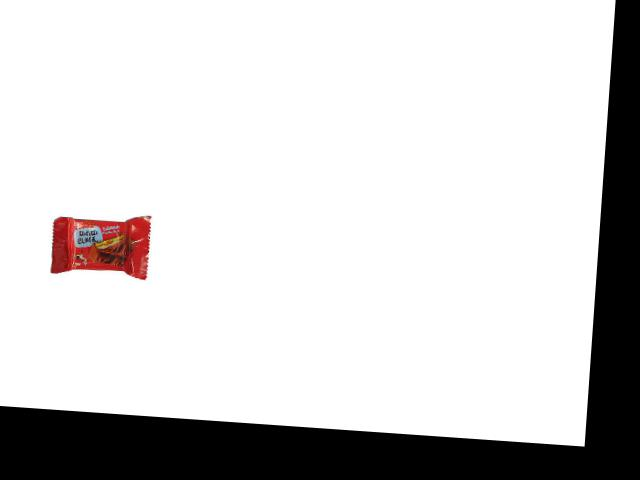chocolate: (41, 202, 152, 279)
